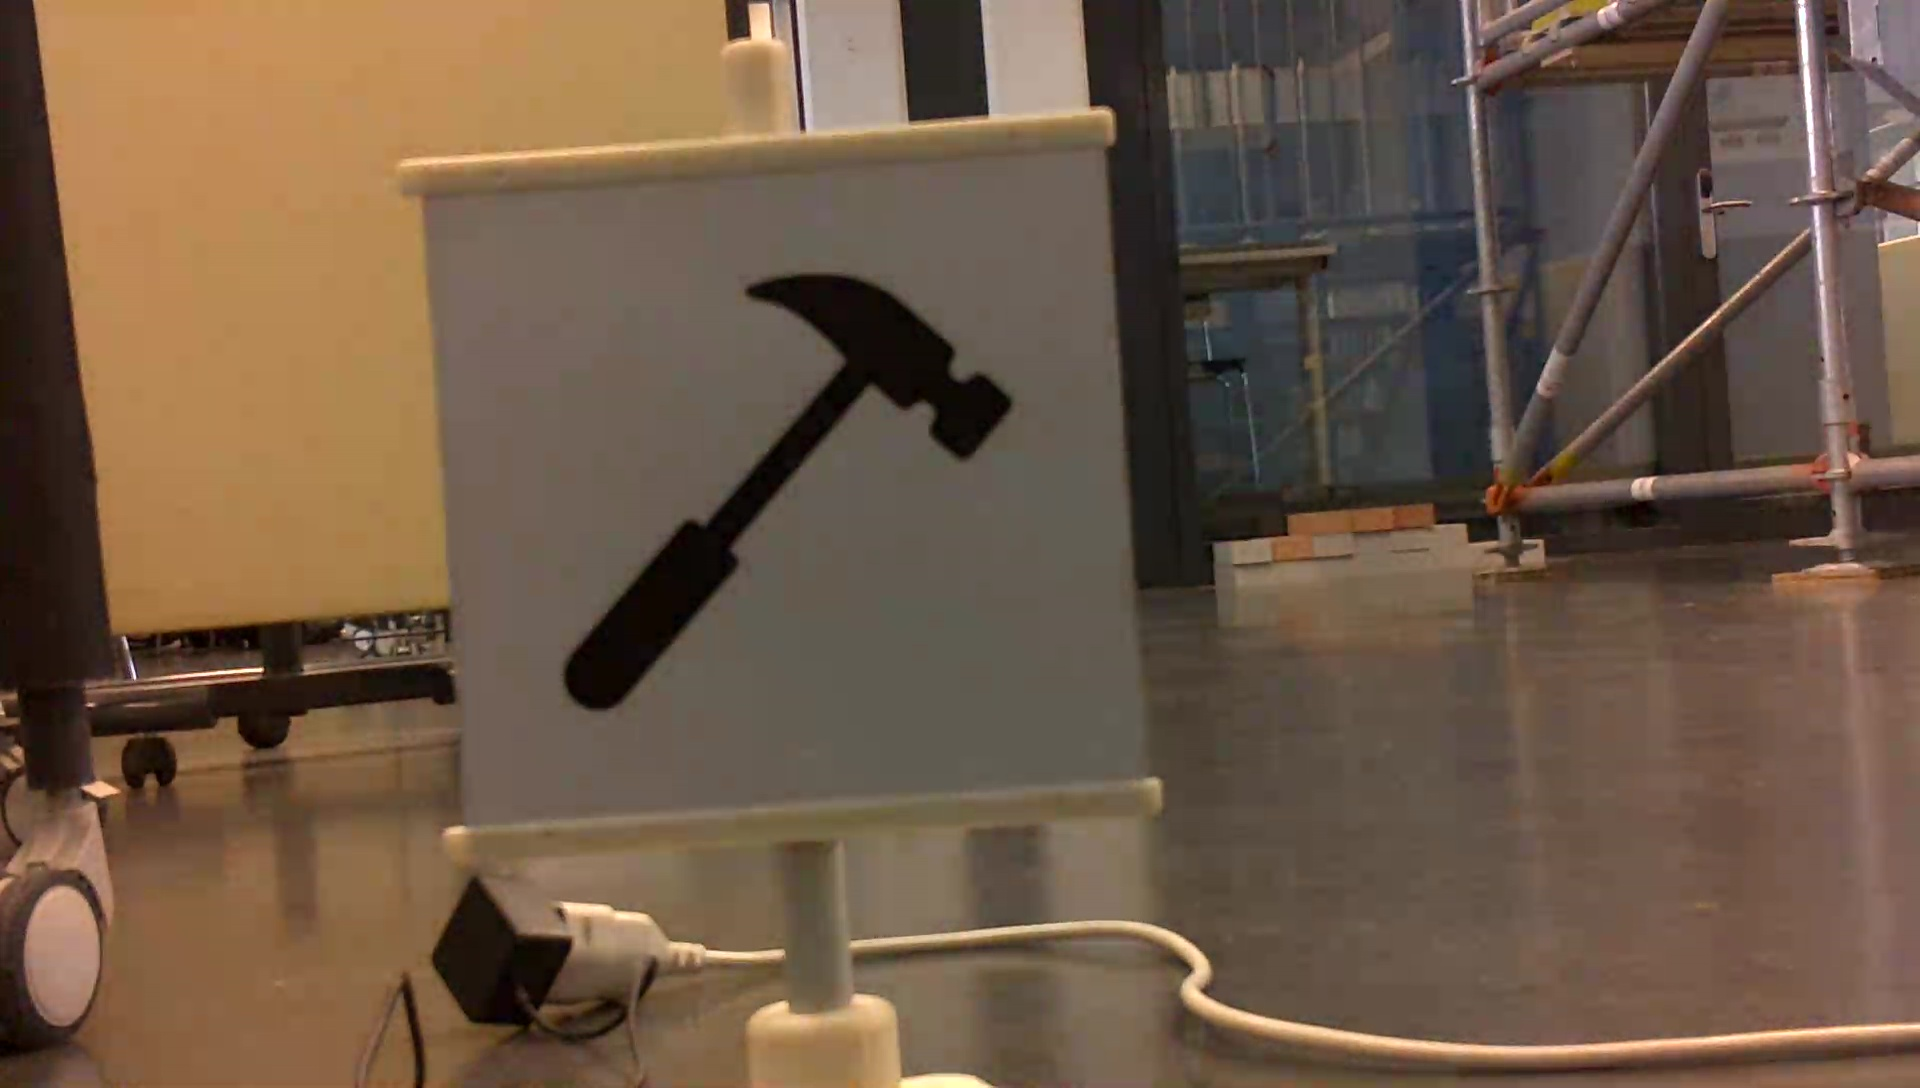hammer: (555, 260, 1025, 715)
